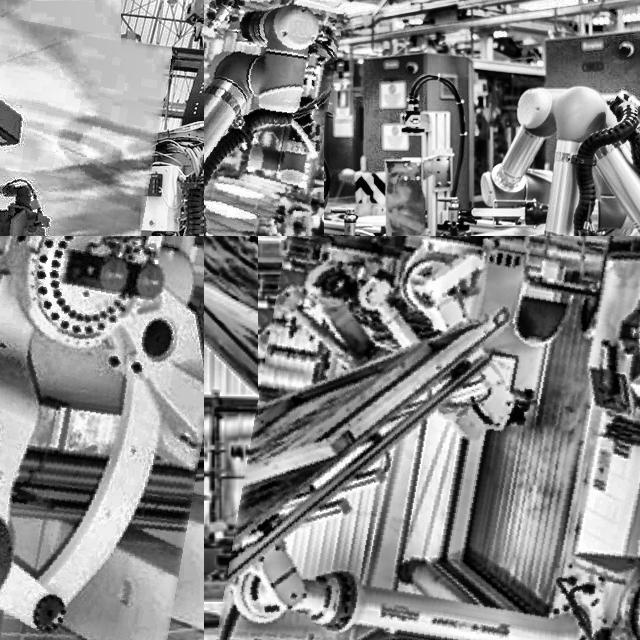robot: (235, 236, 640, 640), (0, 236, 204, 640), (342, 390, 520, 640), (0, 0, 146, 236), (204, 0, 338, 236), (259, 427, 398, 609), (477, 83, 621, 222), (528, 86, 640, 236), (251, 56, 344, 138)
